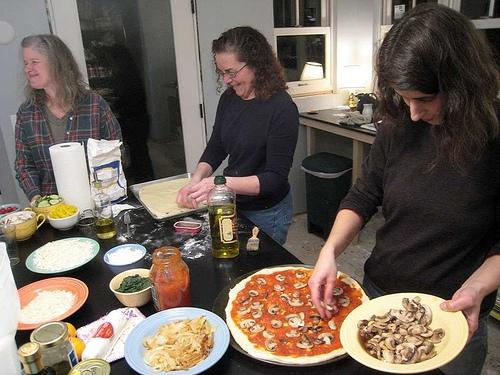mushroom: (284, 312, 304, 328), (428, 328, 446, 344), (395, 310, 415, 322), (395, 343, 415, 355), (408, 324, 428, 335), (406, 335, 425, 346), (318, 332, 334, 344), (381, 350, 395, 363), (308, 314, 324, 325), (420, 326, 434, 338), (385, 336, 396, 351), (240, 319, 256, 329), (410, 299, 424, 310), (420, 341, 434, 352), (418, 345, 428, 360), (266, 340, 278, 352), (250, 324, 266, 333), (414, 308, 426, 320), (296, 340, 314, 348), (288, 298, 304, 307), (382, 327, 394, 338), (338, 296, 350, 307), (390, 334, 403, 344), (372, 321, 388, 329), (286, 330, 301, 338), (250, 301, 264, 309), (237, 307, 251, 315), (328, 320, 338, 331), (268, 305, 280, 314), (311, 325, 323, 334), (262, 330, 275, 338), (368, 321, 376, 334), (279, 294, 292, 302), (372, 326, 382, 336), (334, 286, 344, 296), (372, 334, 382, 344), (293, 282, 307, 289), (274, 284, 286, 292), (374, 316, 390, 322), (270, 320, 282, 328), (358, 320, 368, 329), (275, 274, 285, 282), (400, 323, 411, 330), (428, 351, 436, 360), (295, 272, 307, 278), (394, 319, 404, 326), (252, 312, 263, 318), (367, 340, 378, 346), (248, 290, 258, 296), (258, 278, 266, 285), (382, 350, 386, 358), (390, 316, 398, 320), (306, 294, 310, 298)
